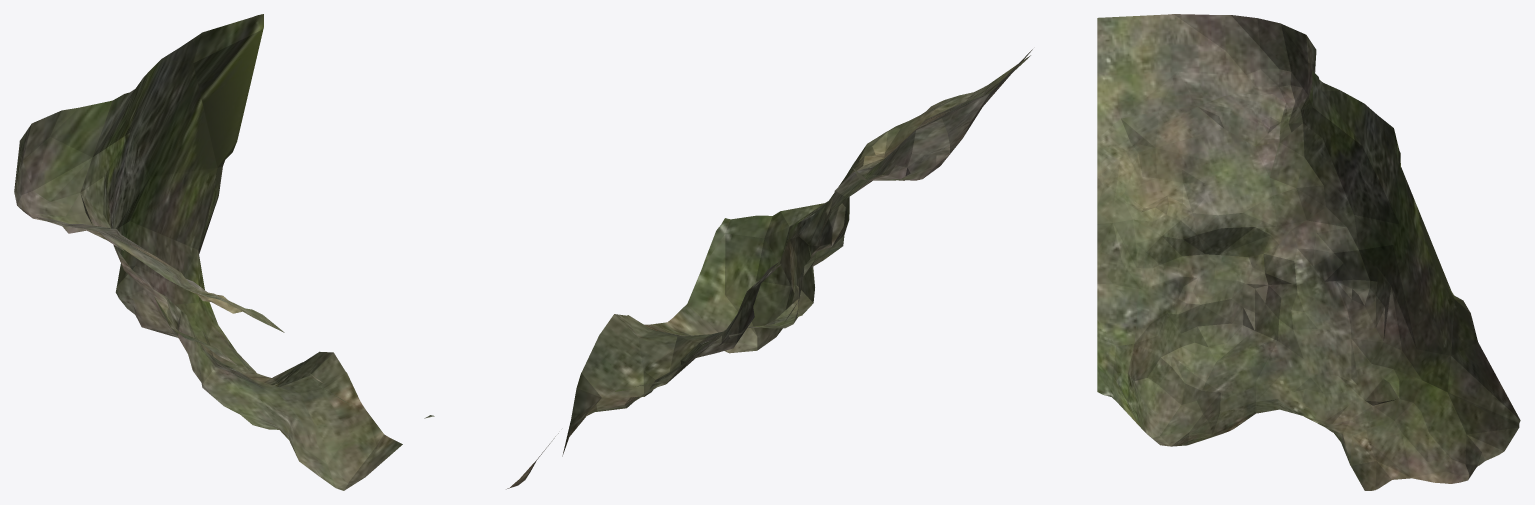
3 renders of one model, left to right at view 1: azimuth 30°, elevation 25°; view 2: azimuth 150°, elevation 25°; view 3: azimuth 270°, elevation 25°, orthographic. The views are drawn at different scales.
Size of the model in its own units: 4.3 by 4.75 by 5.44.
Materials: 3 (3 with a texture image).
